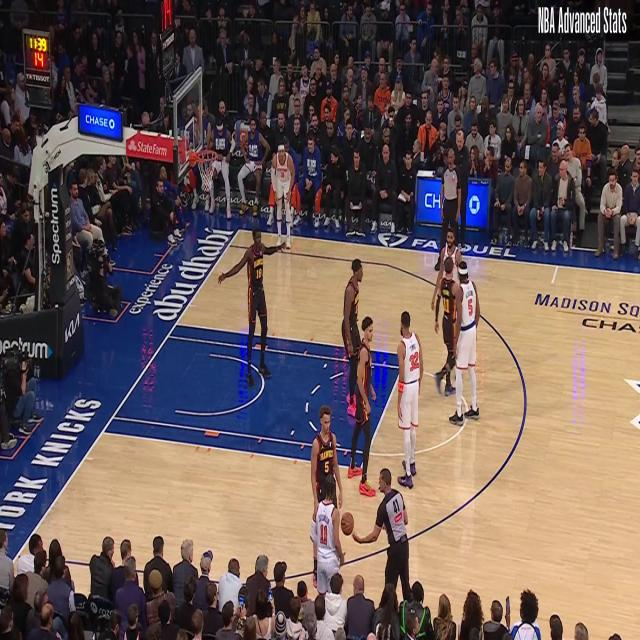ball: (342, 503, 356, 542)
judge: (362, 473, 418, 594), (436, 142, 466, 278)
player: (217, 229, 290, 387), (430, 236, 460, 388), (452, 261, 479, 426), (396, 310, 422, 479), (351, 315, 378, 474), (310, 417, 340, 552), (437, 228, 462, 374), (313, 470, 339, 598), (342, 258, 362, 419), (270, 136, 297, 254)
